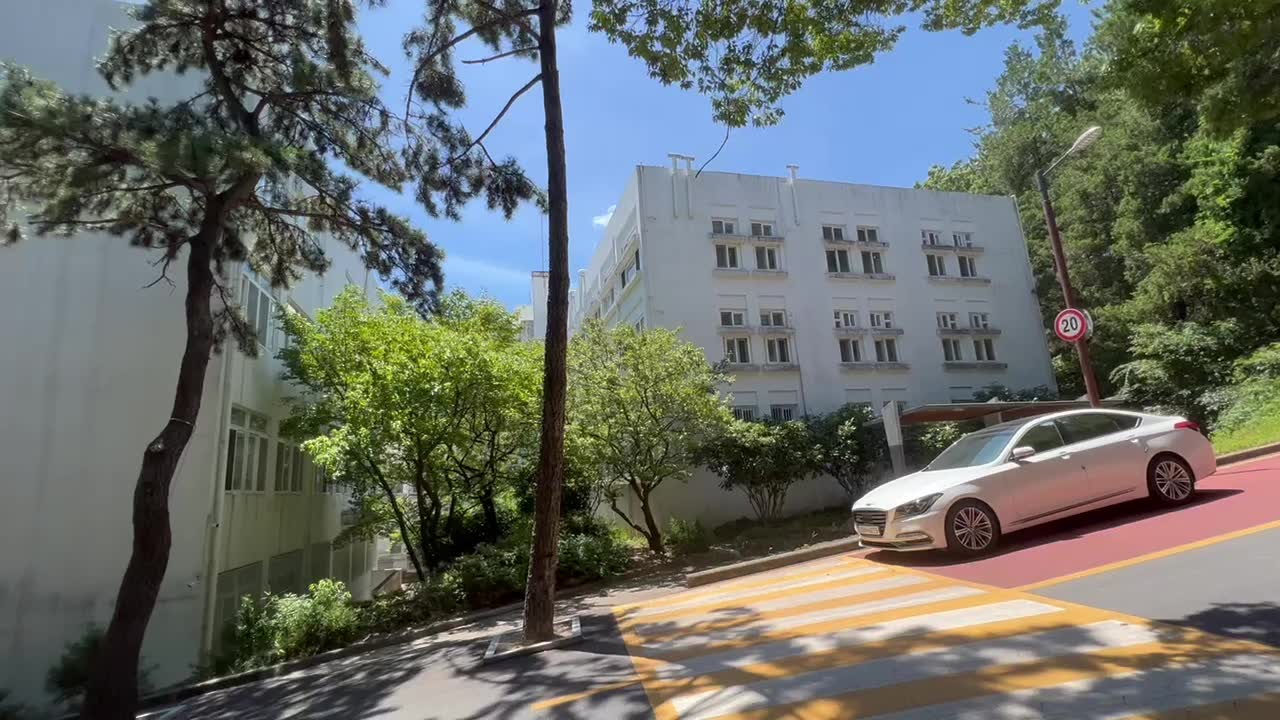low: (647, 130, 1059, 391)
